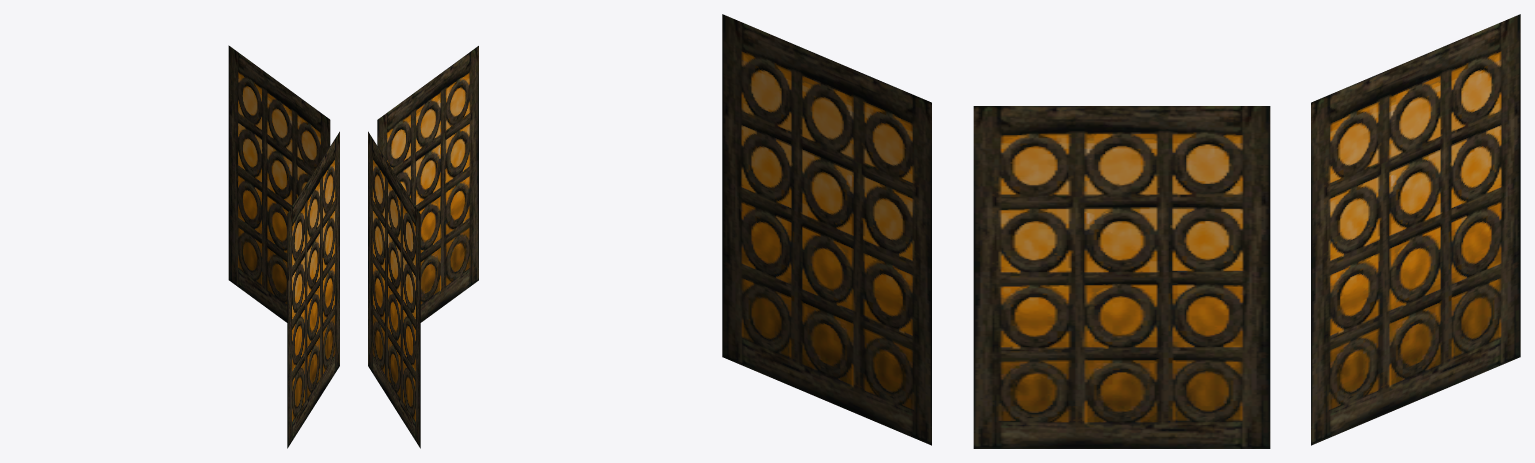
File: LAKETOWN_EXTERIOR_PS_LT_WINDOWS2520.fbx
3 renders of one model, left to right at view 1: azimuth 30°, elevation 25°; view 2: azimuth 150°, elevation 25°; view 3: azimuth 270°, elevation 25°, orthographic. The views are drawn at different scales.
Visible parts, largest first — view 1: LAKETOWN_EXTERIOR_PS_LT_WINDOWS2520; view 2: LAKETOWN_EXTERIOR_PS_LT_WINDOWS2520; view 3: LAKETOWN_EXTERIOR_PS_LT_WINDOWS2520.
Boxes of the visible parts, <box> form: LAKETOWN_EXTERIOR_PS_LT_WINDOWS2520: <box>228,45,339,448</box>; LAKETOWN_EXTERIOR_PS_LT_WINDOWS2520: <box>368,46,478,448</box>; LAKETOWN_EXTERIOR_PS_LT_WINDOWS2520: <box>722,14,1520,448</box>.
Bounding box in the file's own units: 7687 × 13379 × 28220.
Materials: 1 (1 with a texture image).
